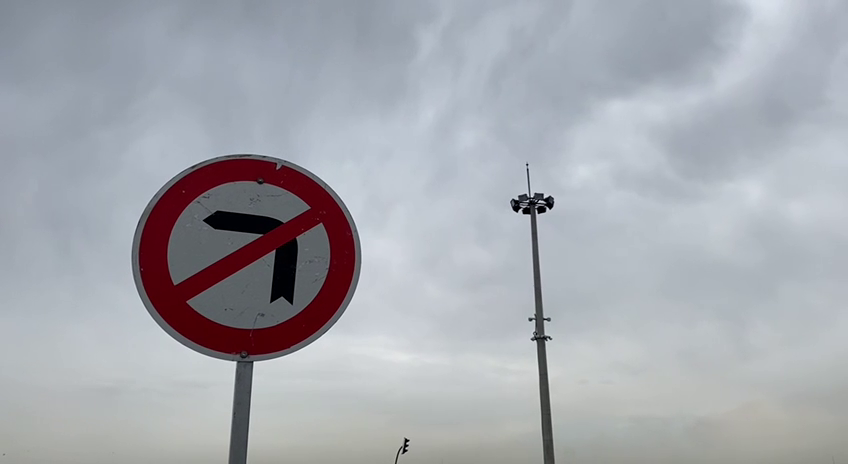noTurnLeft: (126, 143, 367, 366)
